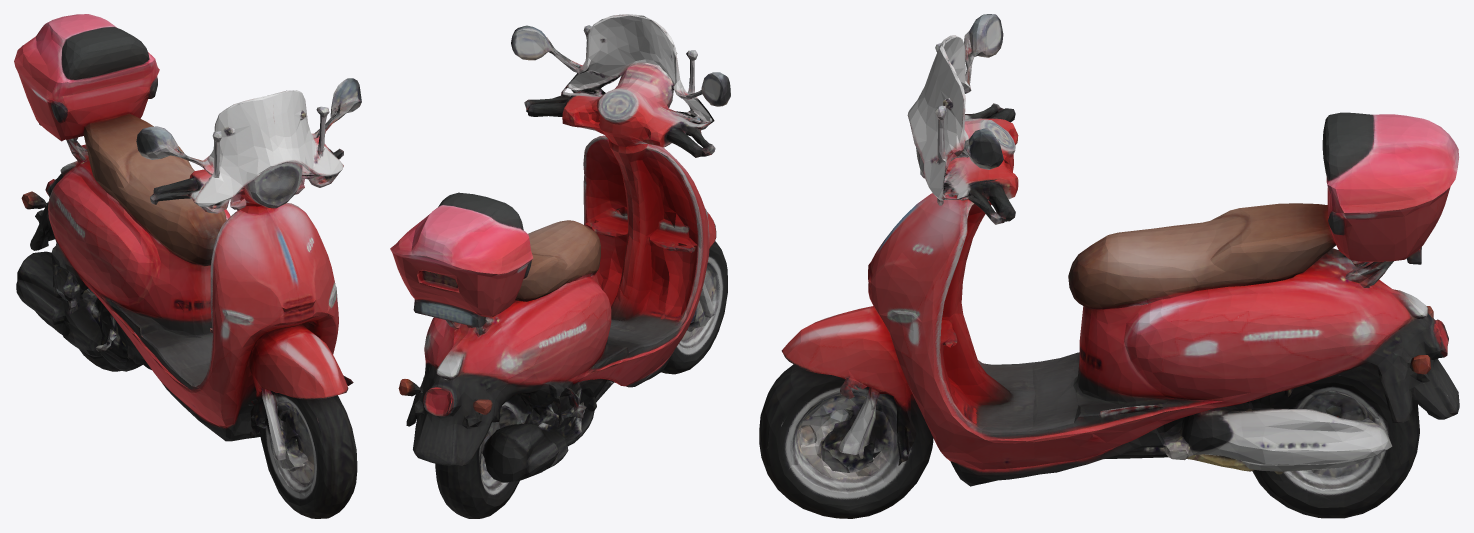
The model's file is kabir 150P.glb.
3 renders of one model, left to right at view 1: azimuth 30°, elevation 25°; view 2: azimuth 150°, elevation 25°; view 3: azimuth 270°, elevation 25°, orthographic. The views are drawn at different scales.
Visible parts, largest first — view 1: world; view 2: world; view 3: world.
Part boxes in pixels (x1,y1,x2,y2): world: (14,14,361,518); world: (390,14,730,518); world: (759,14,1459,518).
Size of the model in its own units: 0.4368 by 0.7421 by 1.
Materials: 1 (1 with a texture image).
